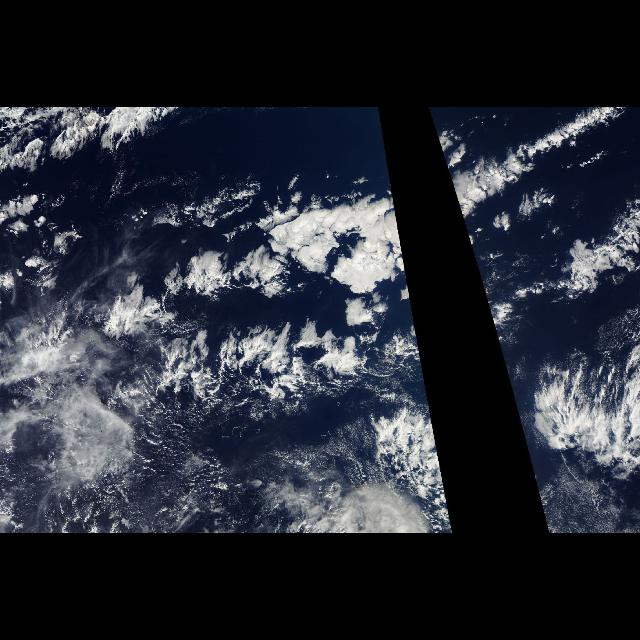Fish: (425, 107, 637, 441), (170, 107, 412, 301), (120, 317, 426, 415), (492, 318, 590, 382)
Flower: (101, 182, 392, 358)
Sugar: (18, 420, 398, 530)
